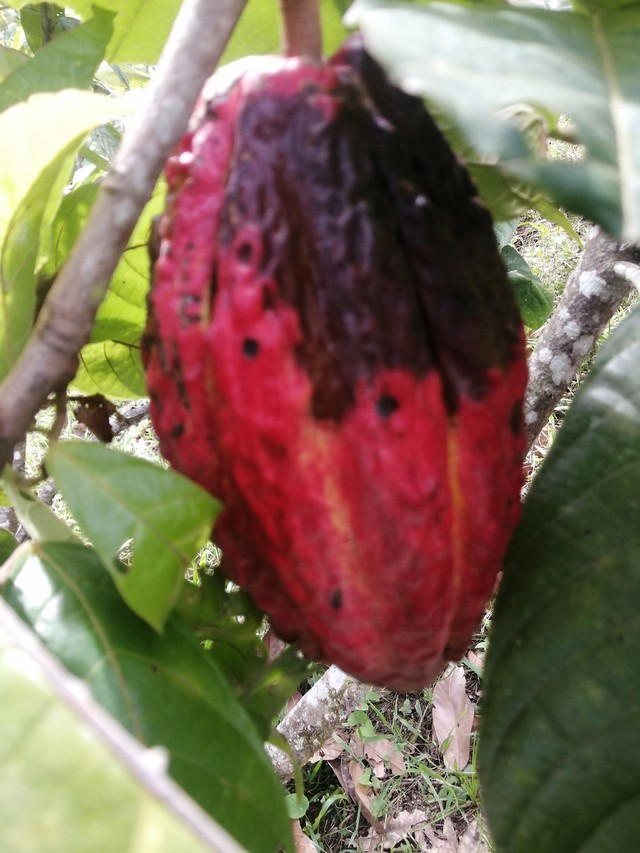phytophthora palmivora: (97, 31, 532, 705)
